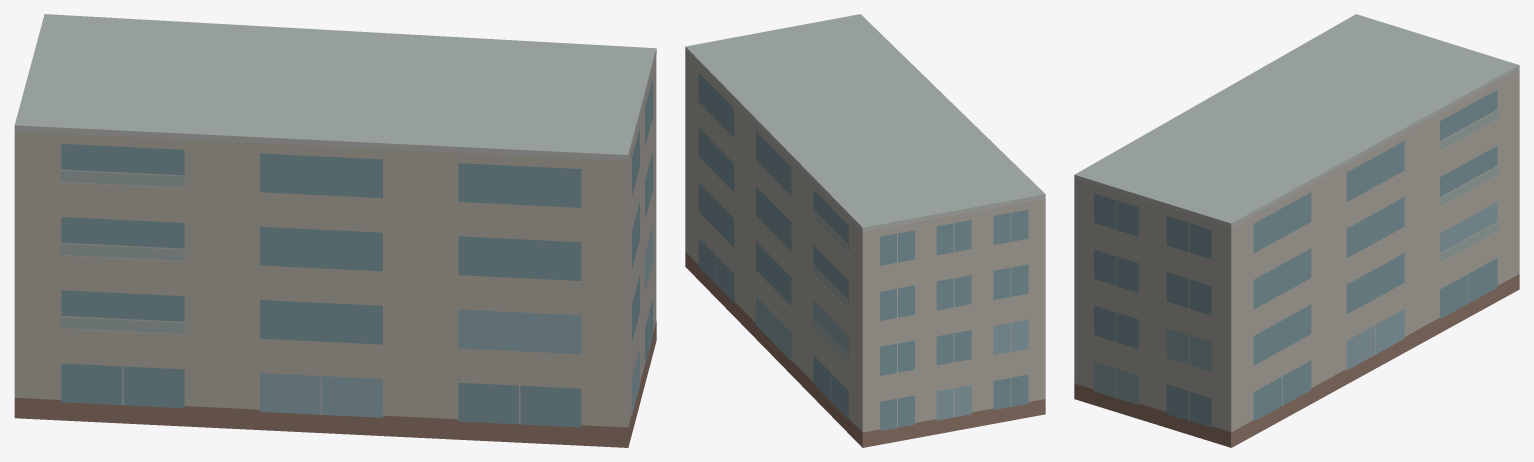
The model's file is survey-upis-32927362.glb.
3 renders of one model, left to right at view 1: azimuth 30°, elevation 25°; view 2: azimuth 150°, elevation 25°; view 3: azimuth 270°, elevation 25°, orthographic. The views are drawn at different scales.
Parts seen in each view (by area): view 1: survey-upis-32927362.tmp; view 2: survey-upis-32927362.tmp; view 3: survey-upis-32927362.tmp.
Boxes of the visible parts, x1=… form: survey-upis-32927362.tmp: x1=14, y1=14, x2=656, y2=447; survey-upis-32927362.tmp: x1=685, y1=14, x2=1045, y2=447; survey-upis-32927362.tmp: x1=1074, y1=14, x2=1519, y2=447.
Bounding box in the file's own units: 24.45 × 12.2 × 21.95.
